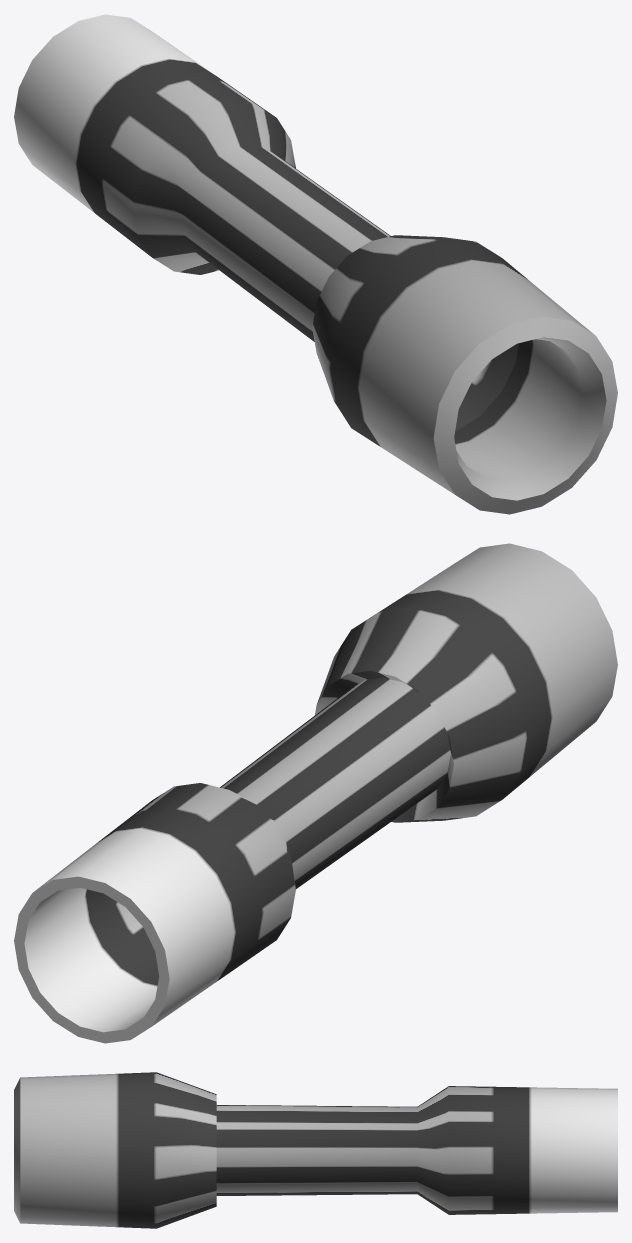
File: Rocket.dae
The picture shows the model from 3 angles, top to bottom: view 1: azimuth 30°, elevation 25°; view 2: azimuth 150°, elevation 25°; view 3: azimuth 270°, elevation 25°; orthographic projection. The views are drawn at different scales.
Parts seen in each view (by area): view 1: Polygon_Mesh; view 2: Polygon_Mesh; view 3: Polygon_Mesh.
Part boxes in pixels (<box>): Polygon_Mesh: <box>14,14,617,514</box>; Polygon_Mesh: <box>14,543,617,1043</box>; Polygon_Mesh: <box>14,1072,617,1228</box>.
Bounding box in the file's own units: 111 × 109 × 426.
1 material, 1 textured.
